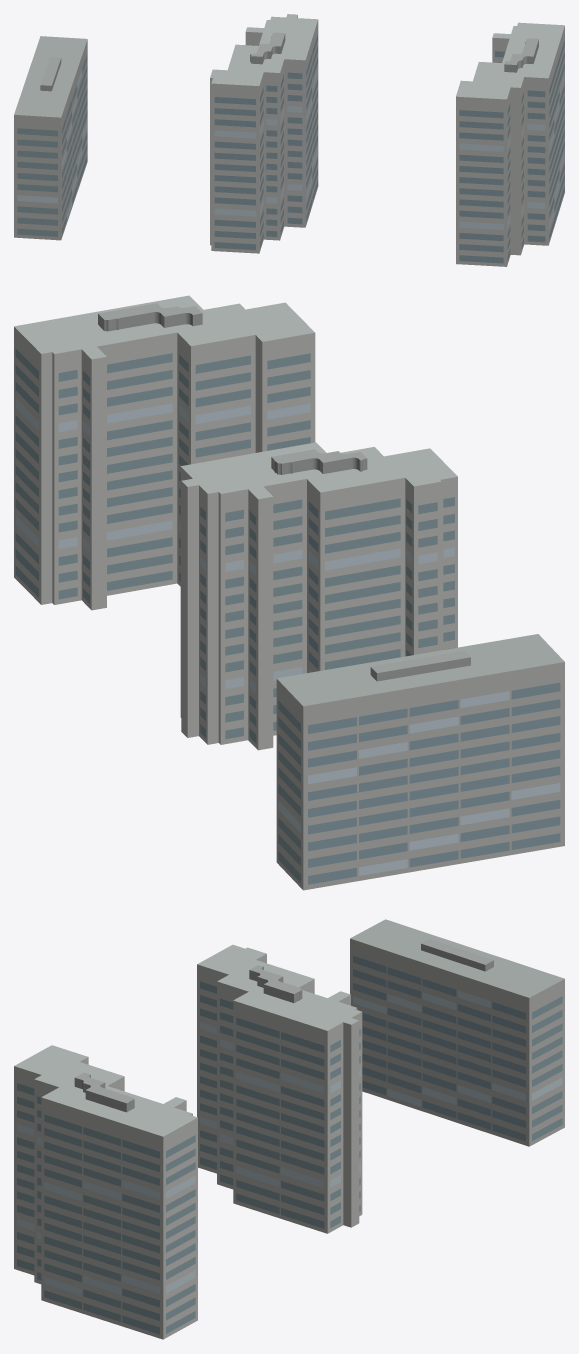
File: apt-a13816001.glb
The picture shows the model from 3 angles, top to bottom: view 1: azimuth 30°, elevation 25°; view 2: azimuth 150°, elevation 25°; view 3: azimuth 270°, elevation 25°; orthographic projection. The views are drawn at different scales.
Visible parts, largest first — view 1: apt-a13816001; view 2: apt-a13816001; view 3: apt-a13816001.
Boxes of the visible parts, x1,y1,x2,y2 form: apt-a13816001: [14, 14, 564, 266]; apt-a13816001: [14, 295, 564, 890]; apt-a13816001: [14, 919, 564, 1339].
Bounding box in the file's own units: 131 × 47.81 × 113.
